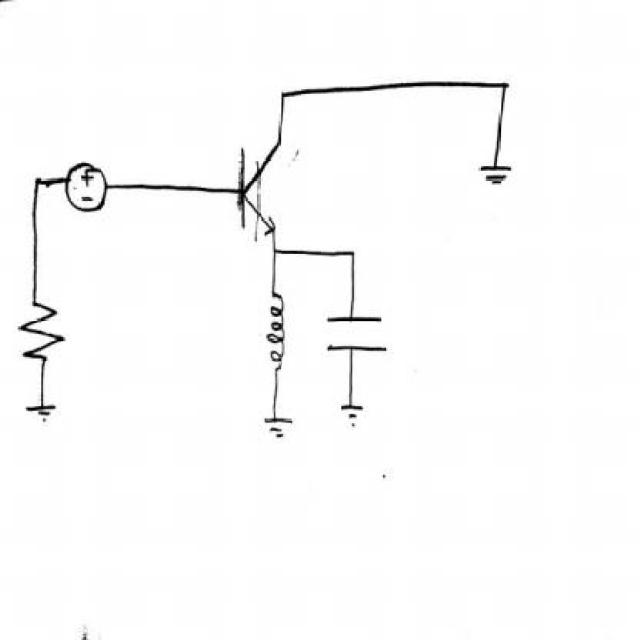capacitor: (318, 295, 400, 363)
ground: (471, 152, 528, 200), (256, 407, 306, 448), (16, 392, 62, 426), (337, 394, 371, 431)
inductor: (260, 284, 293, 374)
resistor: (5, 291, 80, 370)
transistor: (220, 132, 288, 240)
voltage_source: (62, 150, 118, 220)
